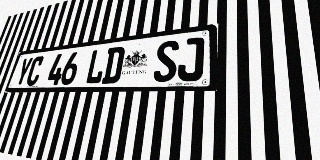4: (46, 53, 67, 85)
6: (59, 51, 81, 85)
C: (25, 56, 45, 86)
D: (101, 46, 126, 84)
J: (177, 37, 205, 81)
L: (84, 48, 108, 84)
S: (152, 40, 179, 82)
Y: (14, 57, 34, 86)
